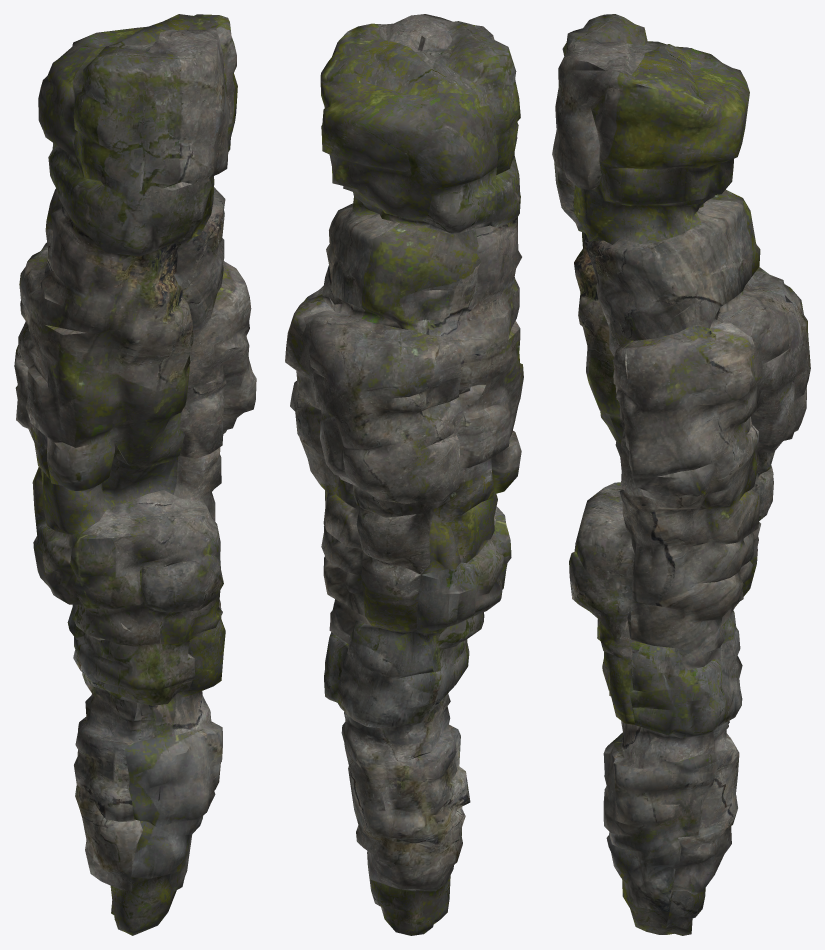
File: Rock7.fbx
The picture shows the model from 3 angles, left to right: view 1: azimuth 30°, elevation 25°; view 2: azimuth 150°, elevation 25°; view 3: azimuth 270°, elevation 25°; orthographic projection. The views are drawn at different scales.
Parts seen in each view (by area): view 1: LV_Veolan_Cliff03_SM_IJH; view 2: LV_Veolan_Cliff03_SM_IJH; view 3: LV_Veolan_Cliff03_SM_IJH.
Boxes of the visible parts, <box> form: LV_Veolan_Cliff03_SM_IJH: <box>14,14,256,935</box>; LV_Veolan_Cliff03_SM_IJH: <box>285,14,523,935</box>; LV_Veolan_Cliff03_SM_IJH: <box>552,14,810,935</box>.
Size of the model in its own units: 4.67 by 19.58 by 5.12.
1 material, 1 textured.
